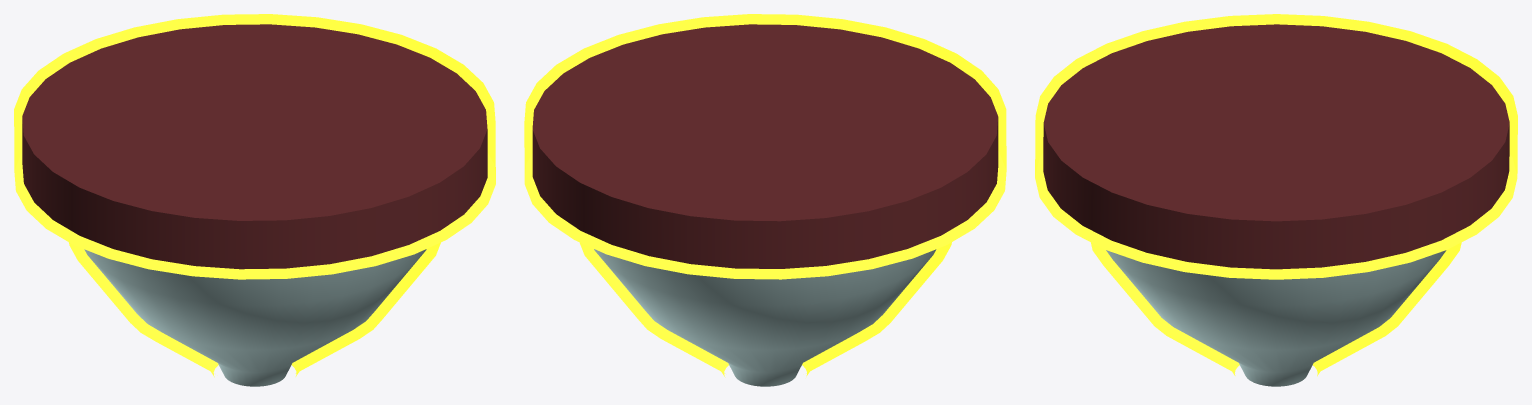
Rendered from hourglass.glb.
3 renders of one model, left to right at view 1: azimuth 30°, elevation 25°; view 2: azimuth 150°, elevation 25°; view 3: azimuth 270°, elevation 25°, orthographic.
Visible parts, largest first — view 1: Hourglass, HourglassHighlight; view 2: Hourglass, HourglassHighlight; view 3: Hourglass, HourglassHighlight.
Boxes of the visible parts, bbox=[...] form: Hourglass: bbox=[22, 24, 487, 386]; HourglassHighlight: bbox=[14, 14, 495, 377]; Hourglass: bbox=[532, 24, 998, 386]; HourglassHighlight: bbox=[524, 14, 1006, 377]; Hourglass: bbox=[1043, 24, 1509, 386]; HourglassHighlight: bbox=[1035, 14, 1517, 376].
Size of what is drawn, in the model's own units: 0.2159 by 0.1272 by 0.2161.
